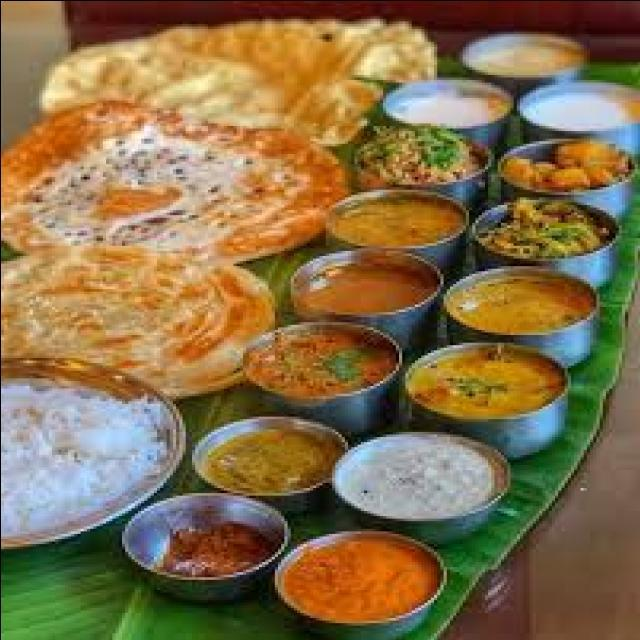curd: (334, 426, 522, 526), (377, 75, 518, 133), (454, 32, 581, 80)
dal: (237, 320, 407, 408), (404, 346, 580, 428)
pickle: (135, 498, 283, 582)
raita: (379, 76, 517, 131)
rice: (2, 389, 177, 545)
sambar-rasam: (271, 525, 451, 628), (288, 245, 444, 325), (331, 187, 473, 255), (452, 29, 586, 82)
